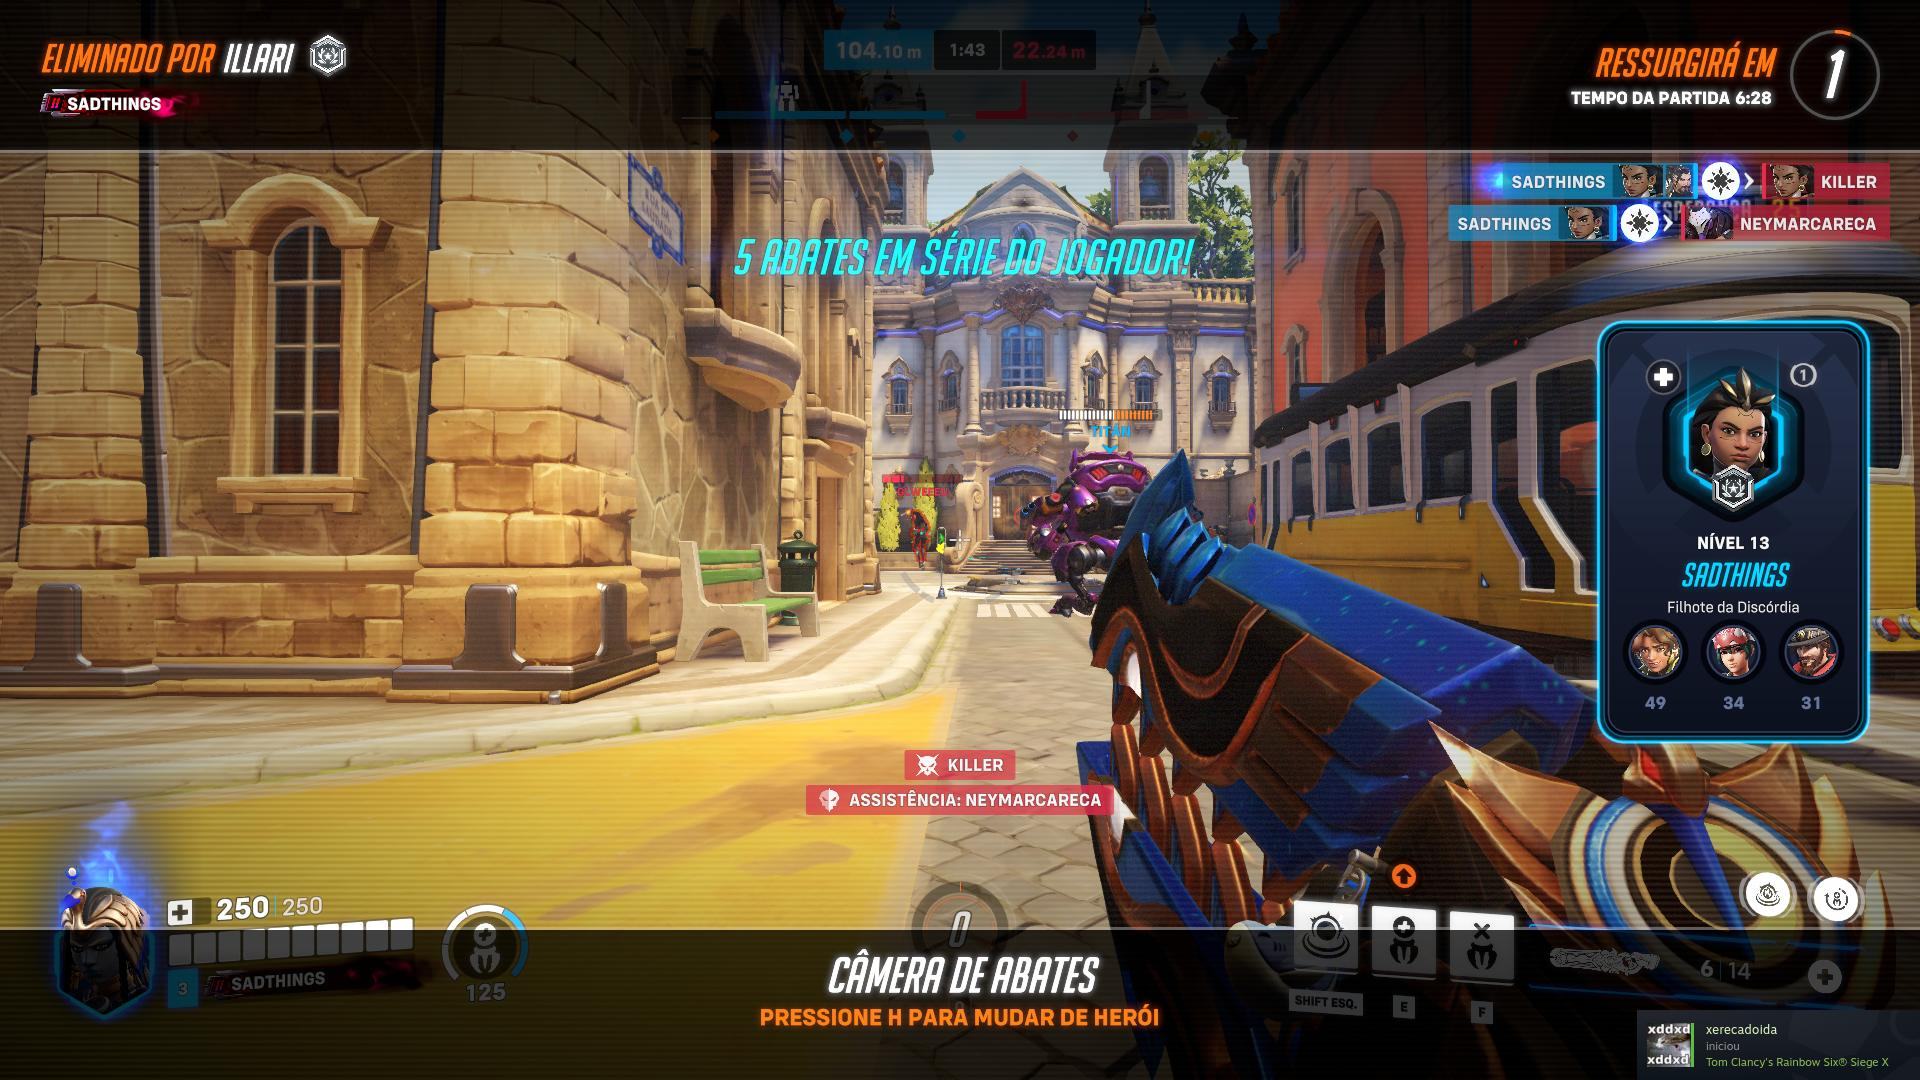enemy: (910, 509, 931, 560)
